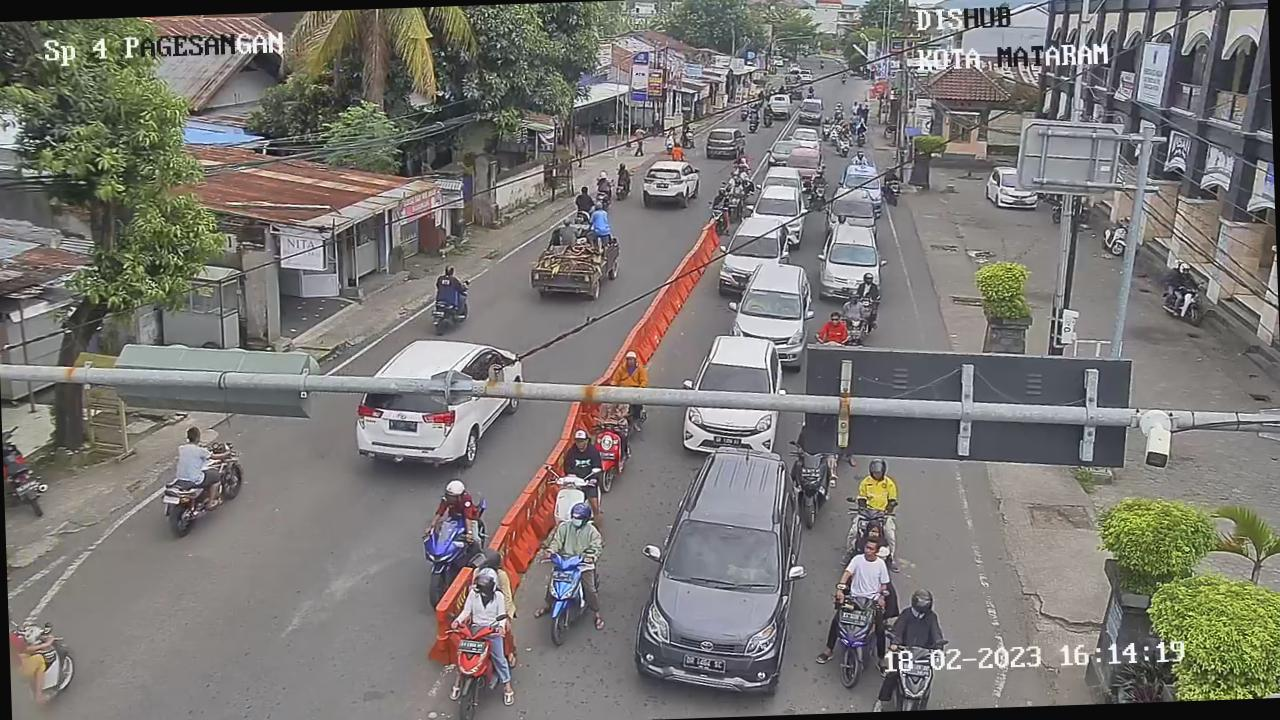car: (622, 442, 812, 703), (348, 336, 524, 471), (673, 322, 787, 460), (712, 210, 796, 302), (724, 259, 814, 343), (810, 215, 886, 304), (746, 182, 812, 246), (636, 158, 700, 211), (982, 162, 1038, 214), (821, 183, 877, 234), (838, 161, 883, 212), (706, 127, 750, 162), (786, 146, 824, 184), (762, 162, 803, 197), (792, 94, 826, 126), (767, 136, 800, 168)
motorcycle: (432, 607, 515, 720), (826, 579, 892, 690), (534, 539, 600, 645), (782, 435, 840, 527), (414, 516, 470, 604), (586, 412, 638, 494), (837, 493, 901, 556), (542, 466, 588, 528), (843, 310, 870, 350), (706, 197, 731, 234), (882, 177, 904, 208), (809, 179, 830, 208), (725, 190, 743, 218), (834, 134, 854, 157), (819, 120, 835, 142)
person: (832, 532, 895, 600), (450, 564, 511, 633), (888, 585, 952, 650), (432, 478, 488, 546), (848, 451, 903, 518), (549, 502, 606, 566), (170, 422, 217, 485), (556, 421, 604, 481), (430, 260, 470, 310), (608, 346, 649, 390), (813, 306, 852, 346), (840, 288, 869, 326), (854, 269, 880, 297), (724, 168, 746, 196), (710, 185, 731, 214), (810, 167, 829, 190), (850, 146, 869, 166), (820, 115, 832, 130)
truck: (526, 211, 622, 292)
